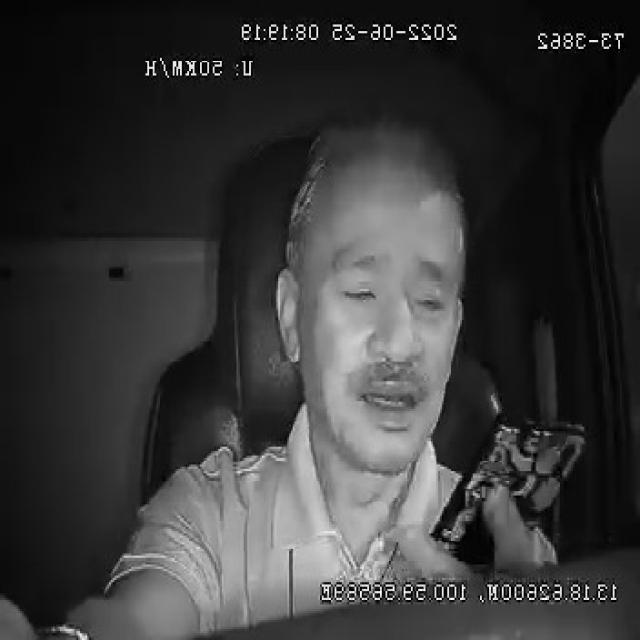phone: (429, 411, 587, 560)
